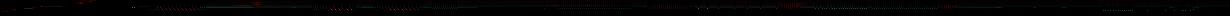Blue cone: (11, 9, 17, 10), (32, 7, 38, 8), (39, 6, 44, 7)
Orange: (776, 3, 807, 9), (250, 2, 265, 6)
Yellow cone: (938, 5, 960, 9)
